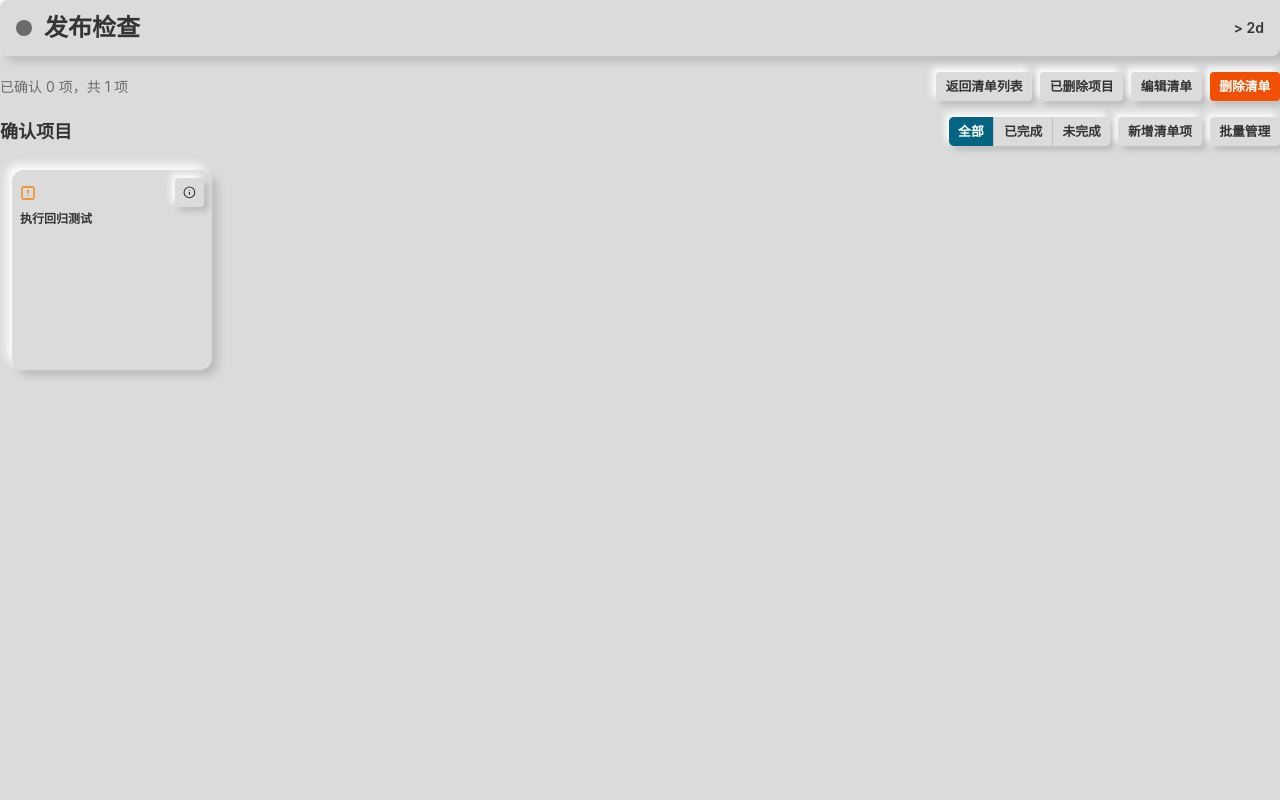
Scenario: ChecklistDetailView › edits an item in a dialog and keeps the detail dialog read only
The image size is (1280, 800).
Click the button "批量管理" at (1245, 132), box [1210,117,1279,146]
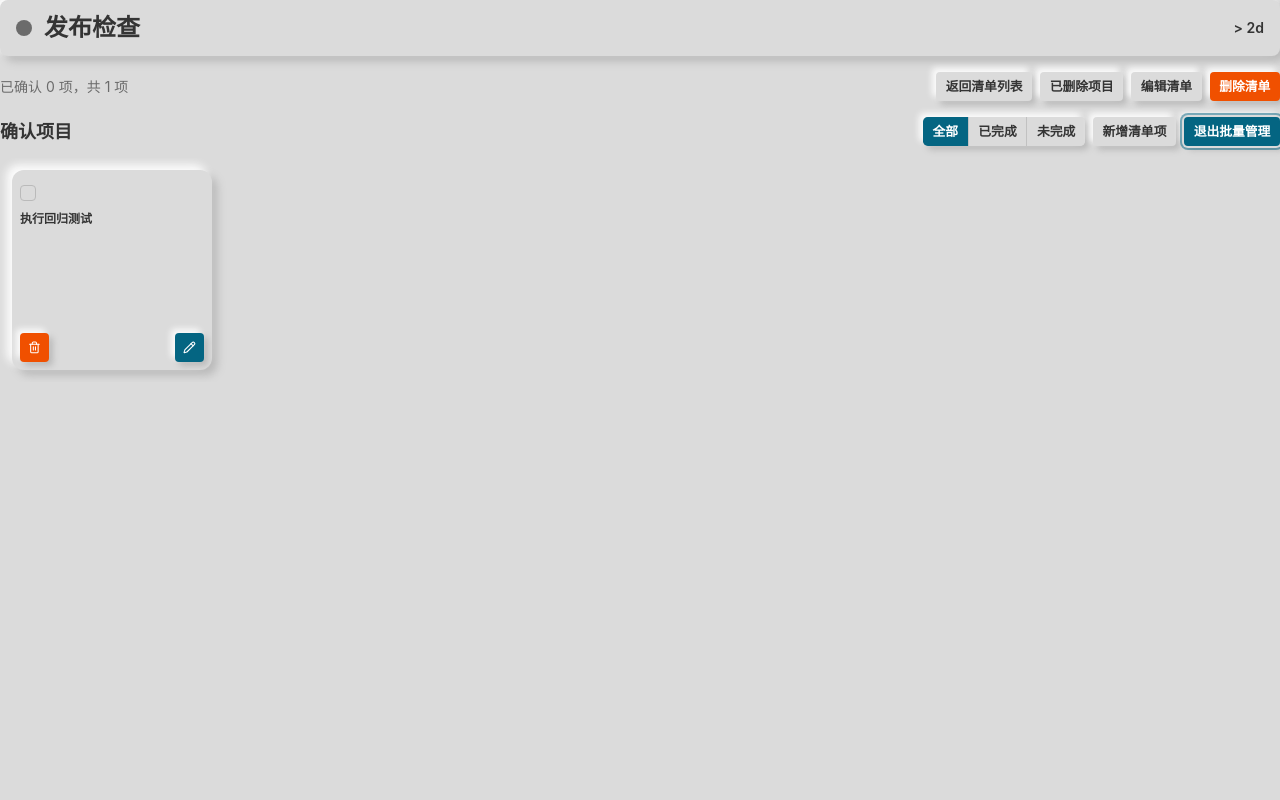
Click the button named "编辑清单项" at (190, 348), box [175,333,204,362]
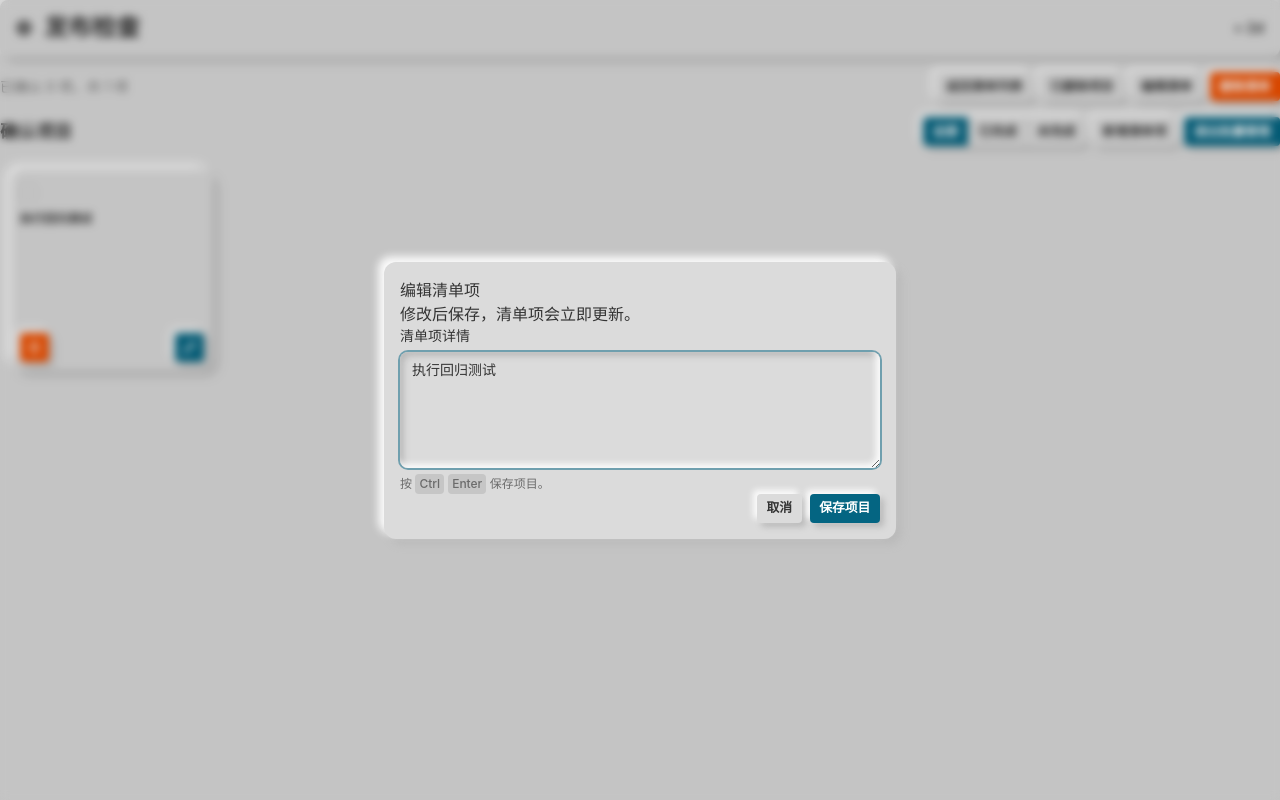
Replace the text in the text box labelled "清单项详情" with "完成发布前回归测试" at (640, 410), box [400,352,880,468]
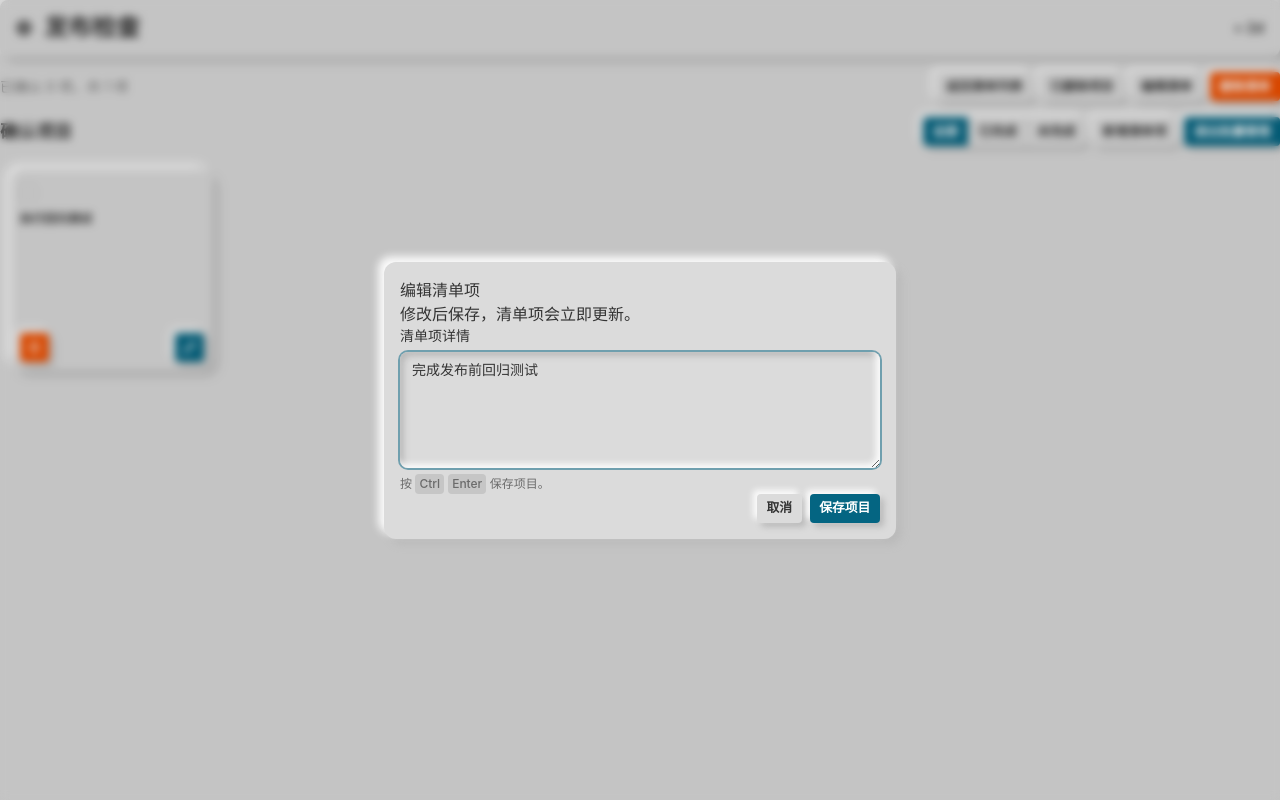
Click the button "保存项目" at (845, 508), box [810,494,880,522]
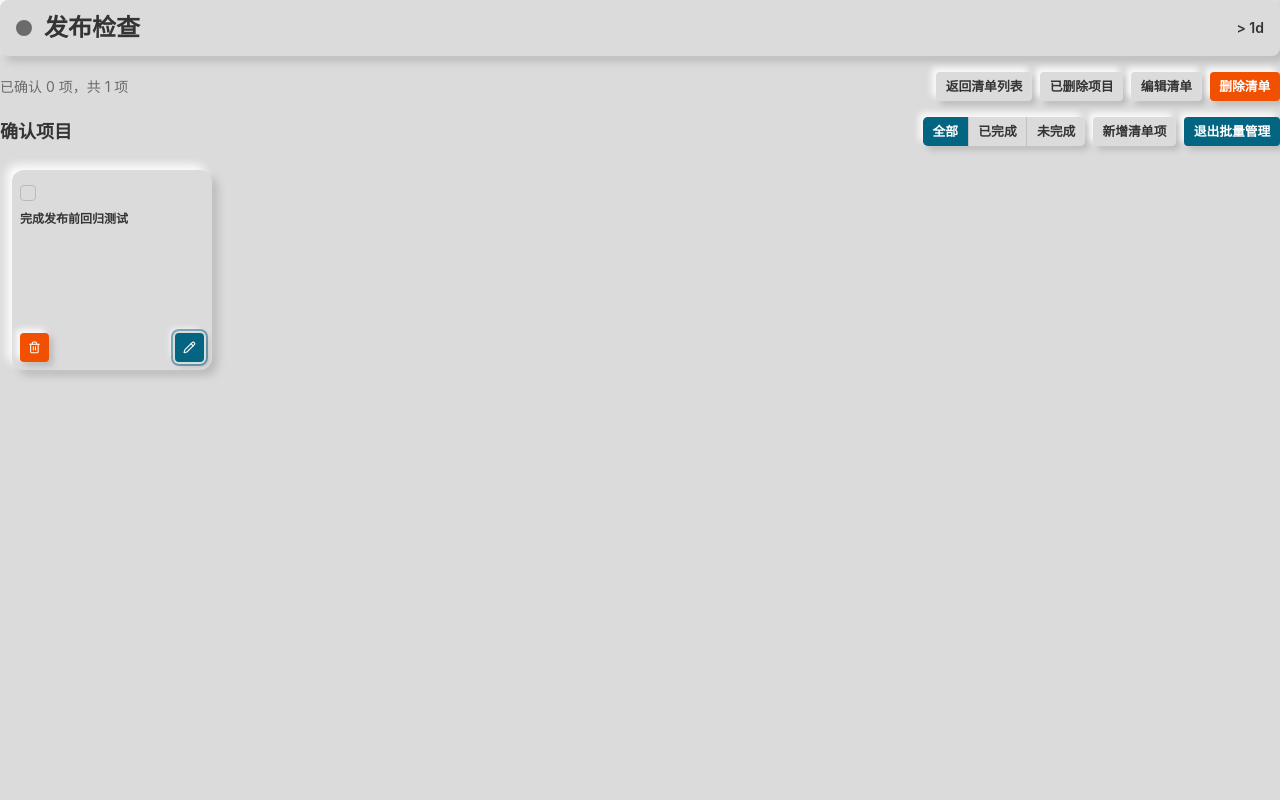
Check: the heading "编辑清单项" is gone
Check: the heading "完成发布前回归测试" is shown, box [20,211,128,226]
Click the button "退出批量管理" at (1232, 132), box [1184,117,1279,146]
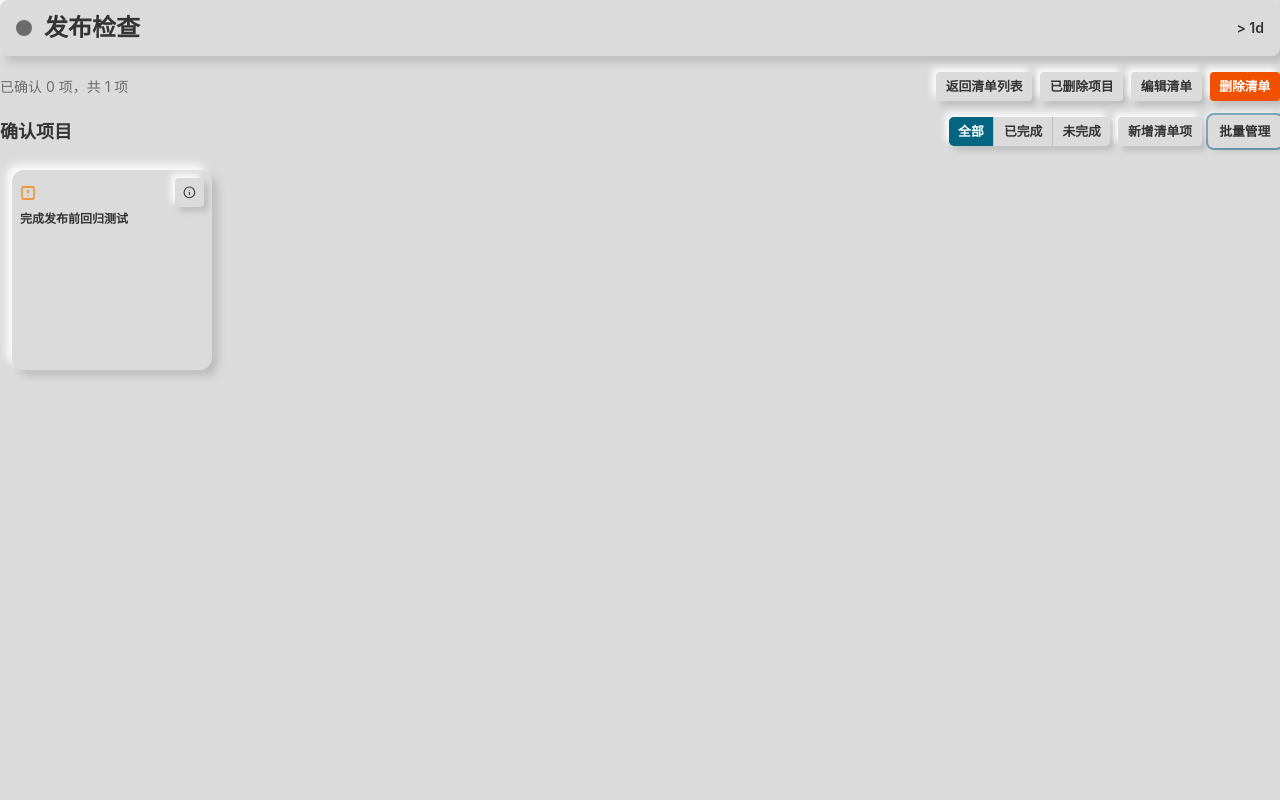
Click the button named "查看清单项详情" at (190, 192), box [175,178,204,207]
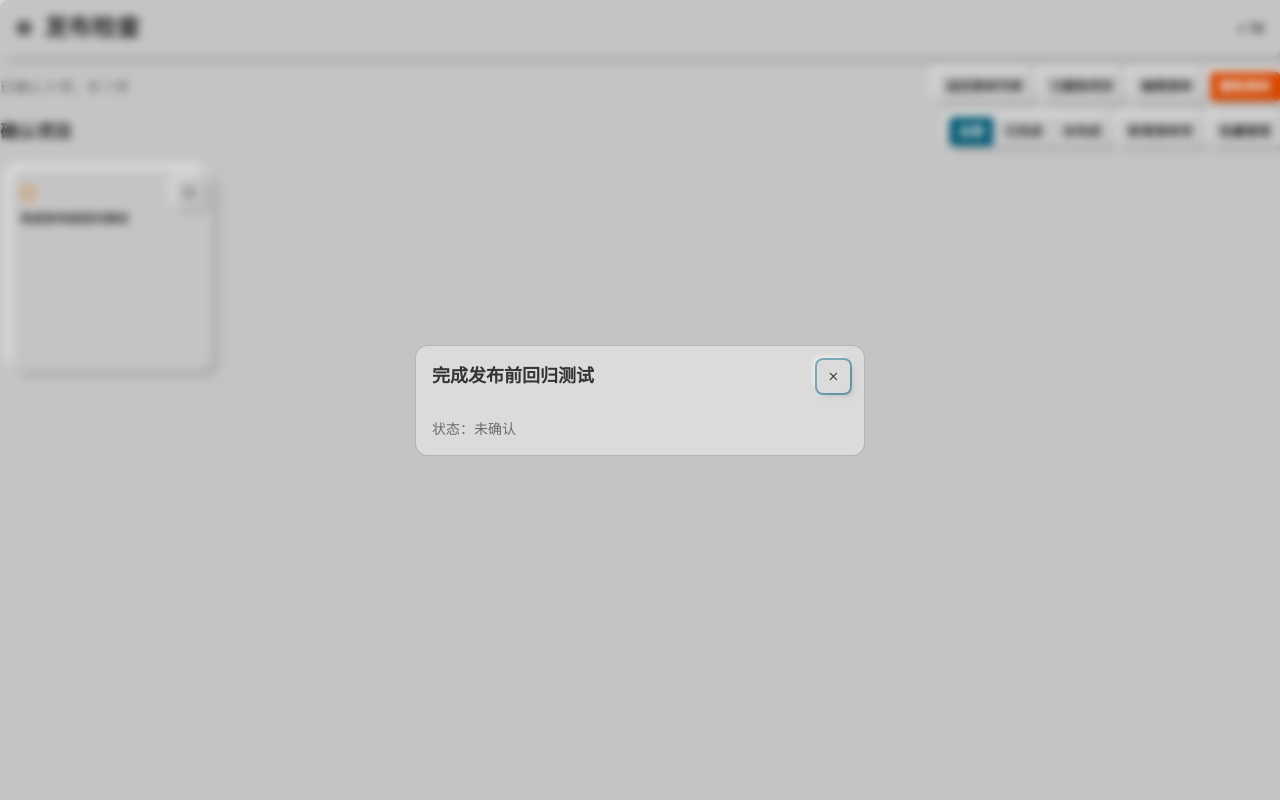
Check: the label "清单项详情" is not shown
Check: the dialog shows "完成发布前回归测试", box [432,364,594,386]
